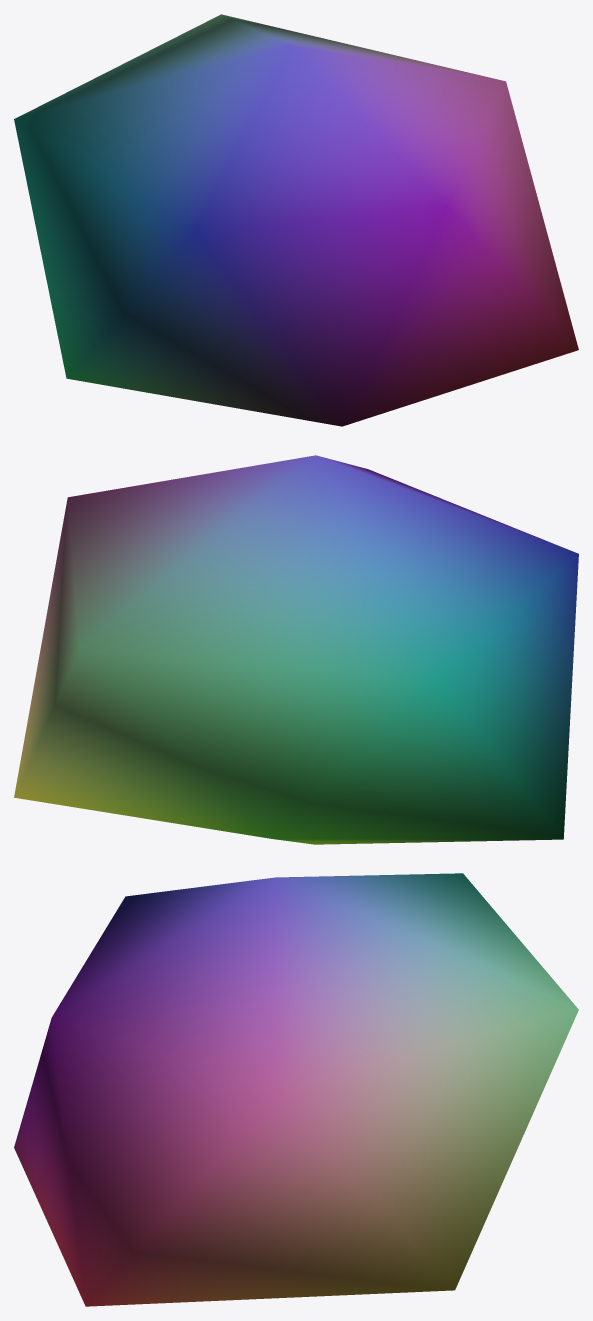
File: SM_FX_Rock_A.fbx
The picture shows the model from 3 angles, top to bottom: view 1: azimuth 30°, elevation 25°; view 2: azimuth 150°, elevation 25°; view 3: azimuth 270°, elevation 25°; orthographic projection. The views are drawn at different scales.
Visible parts, largest first — view 1: SM_FX_Rock_A; view 2: SM_FX_Rock_A; view 3: SM_FX_Rock_A.
Boxes of the visible parts, x1,y1,x2,y2 form: SM_FX_Rock_A: (14,14,578,426); SM_FX_Rock_A: (14,455,578,844); SM_FX_Rock_A: (14,873,578,1306).
Size of the model in its own units: 0.1383 by 0.1022 by 0.1405.
